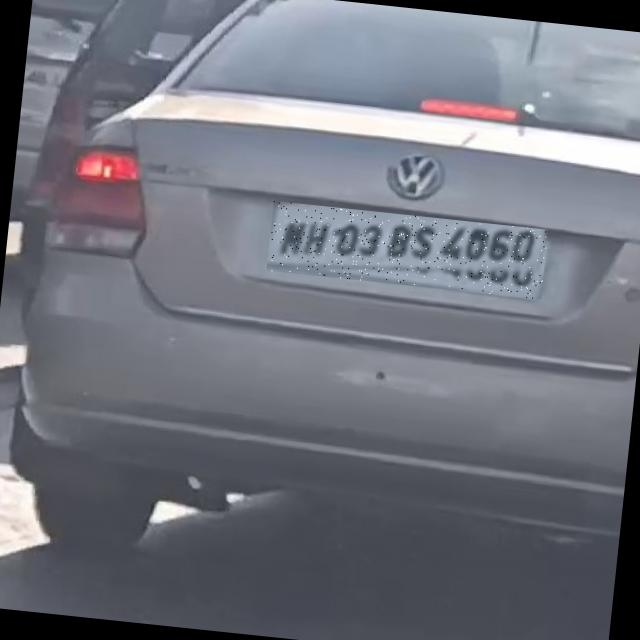Plate: (267, 202, 549, 300)
